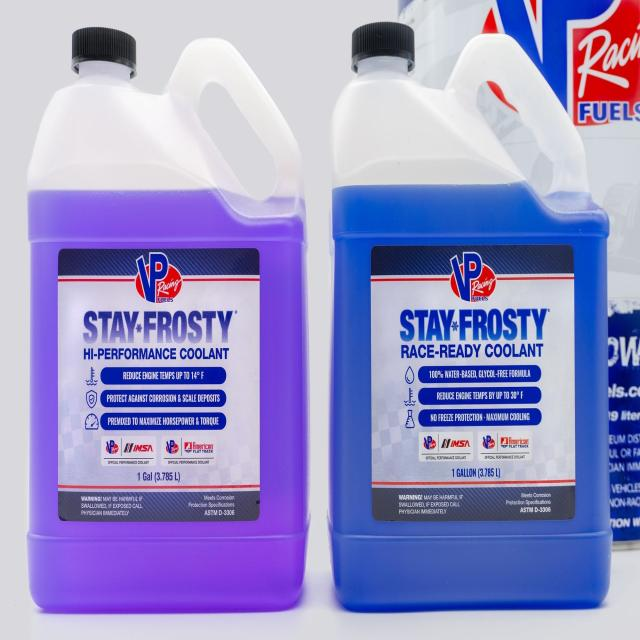coolant: (26, 22, 312, 618), (330, 15, 610, 606)
